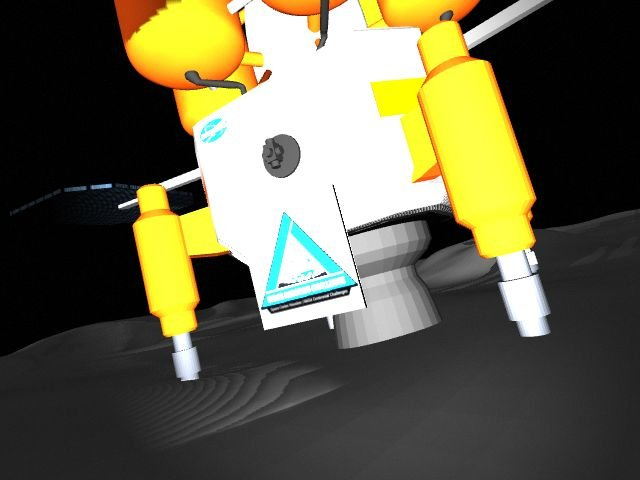basemarker: (260, 212, 358, 314)
